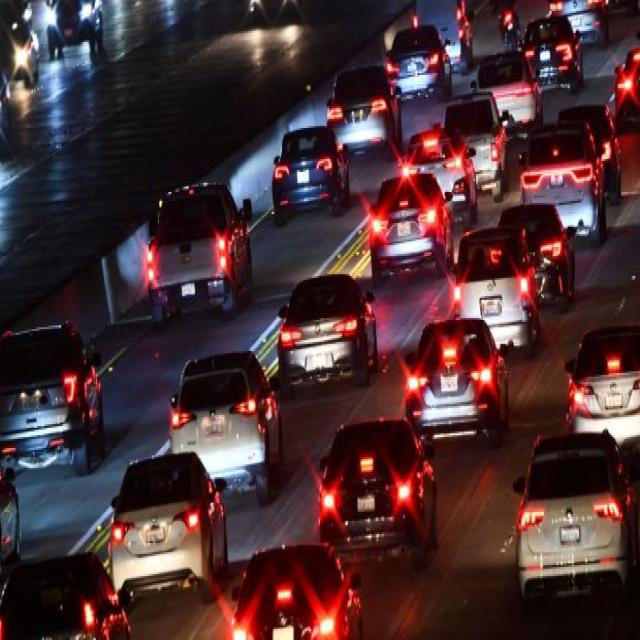car: (511, 431, 640, 608), (167, 352, 282, 506), (109, 451, 228, 598), (319, 420, 437, 568), (0, 319, 105, 475), (147, 182, 253, 317), (405, 320, 509, 444), (230, 545, 360, 640), (278, 274, 378, 386), (454, 230, 540, 360), (0, 554, 129, 639), (519, 124, 607, 246), (562, 324, 640, 446), (498, 206, 578, 312), (370, 176, 454, 276), (325, 64, 404, 160), (440, 93, 509, 201), (403, 131, 479, 227), (272, 126, 351, 216), (557, 107, 621, 204), (474, 52, 543, 140), (384, 24, 454, 101), (521, 18, 587, 92), (411, 0, 474, 73), (44, 0, 104, 55), (0, 16, 40, 90), (548, 0, 609, 44), (614, 44, 640, 136)
